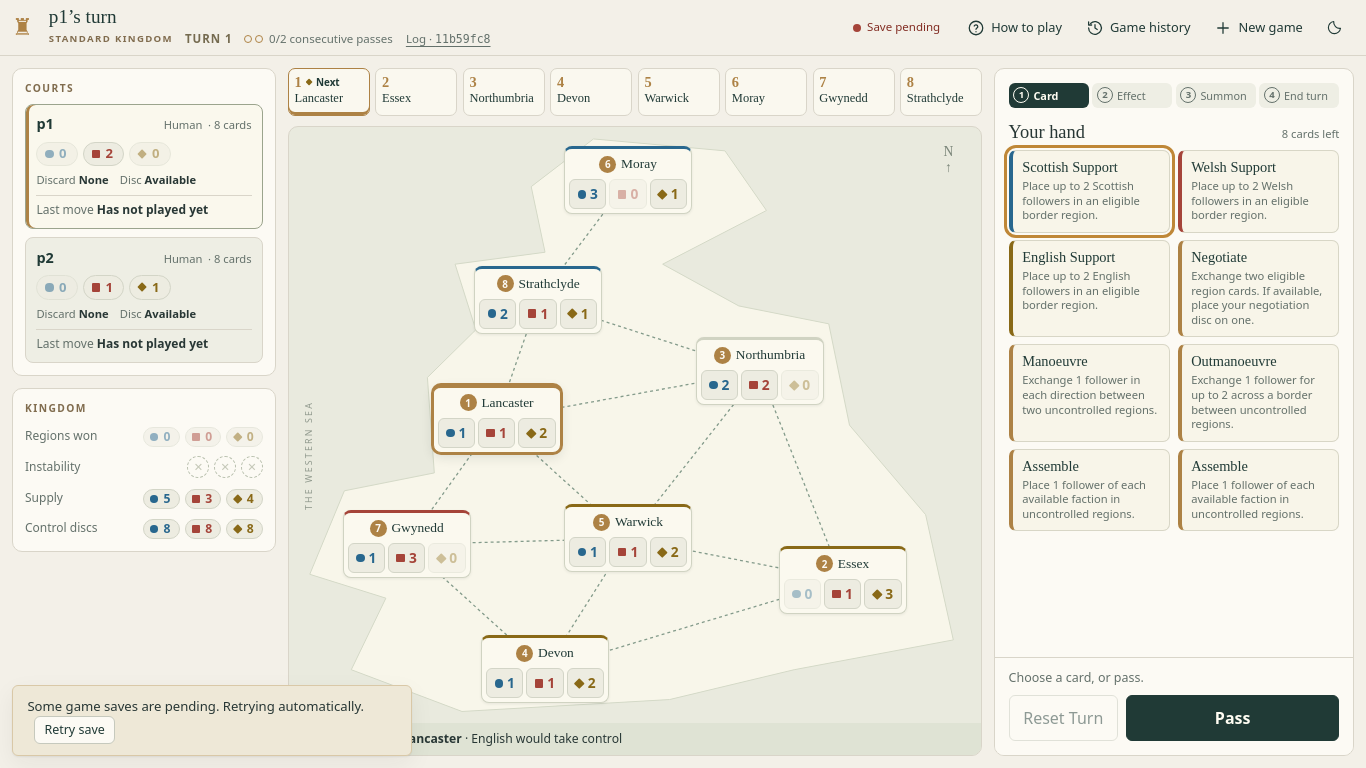
Test: recovering an interrupted game › reports a corrupt position without replacing the current game
Click the button "Game history" at point(1138, 28), box [1075,10,1201,46]
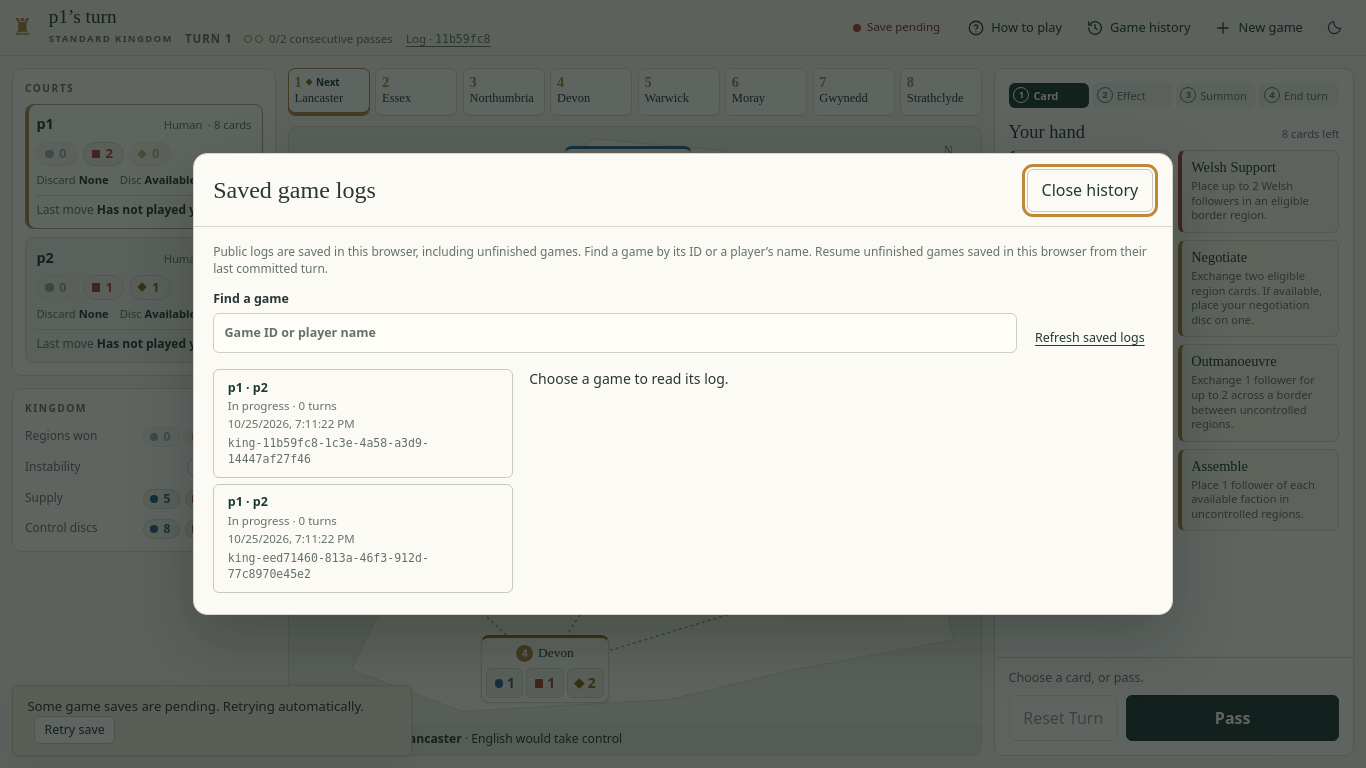
Click the 4th button at point(248, 502), box [213,484,513,593]
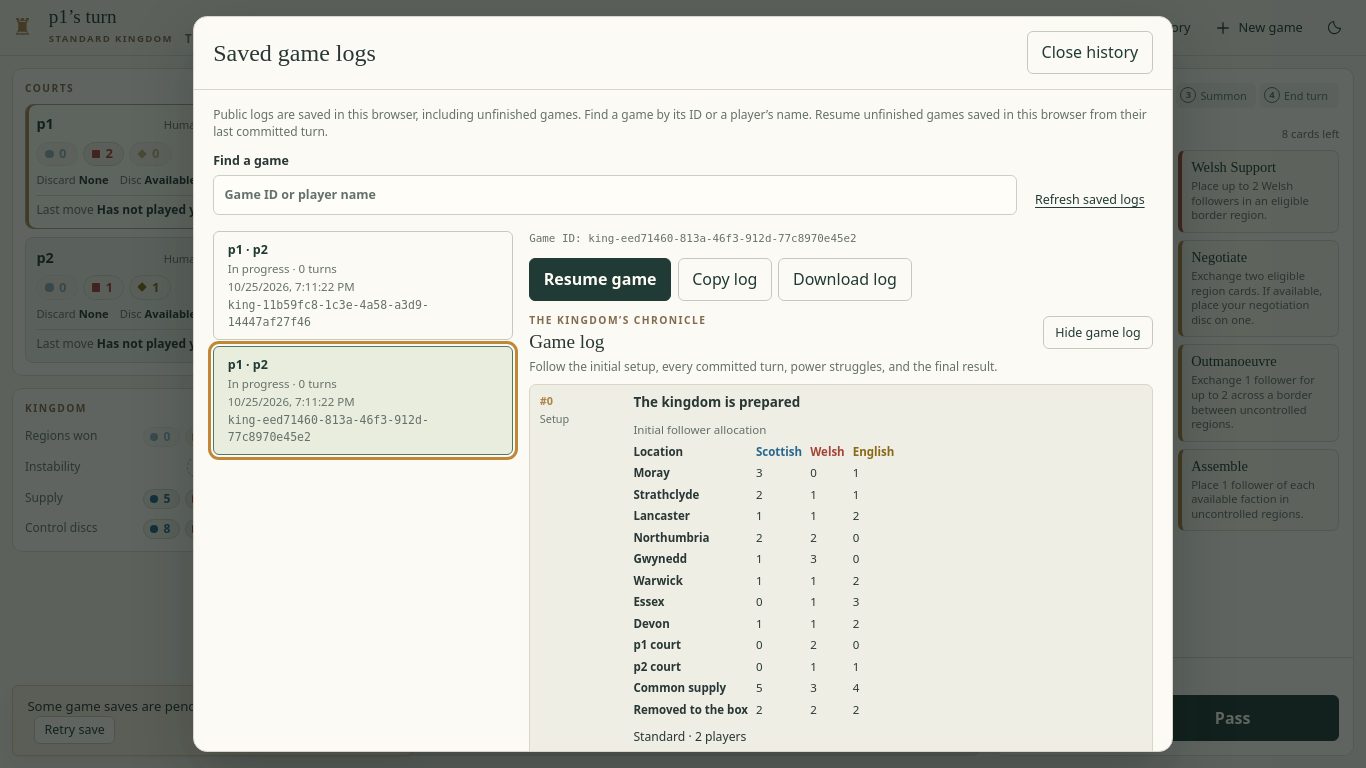
Click the button "Resume game" at point(600, 279), box [529,258,671,301]
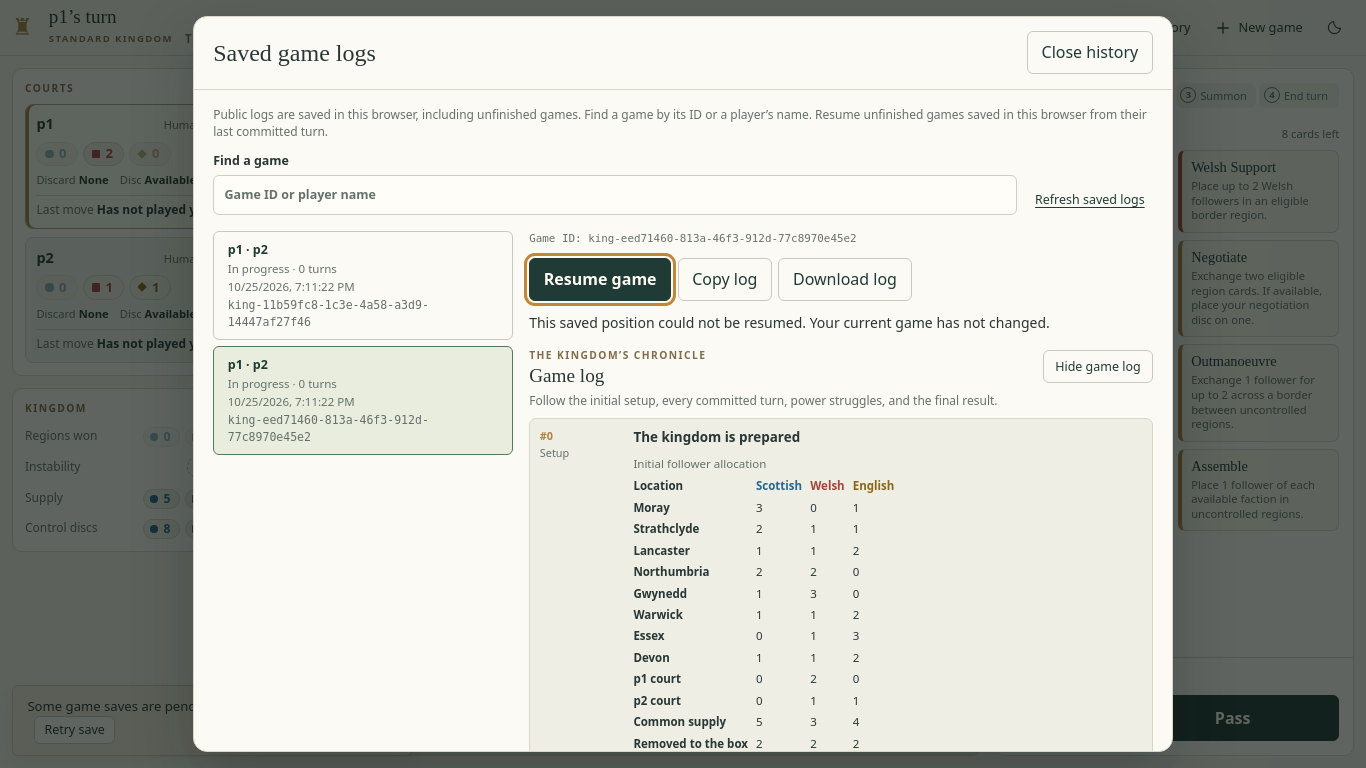
Expected: the message shows "could not be resumed", [529,314,1050,332]
